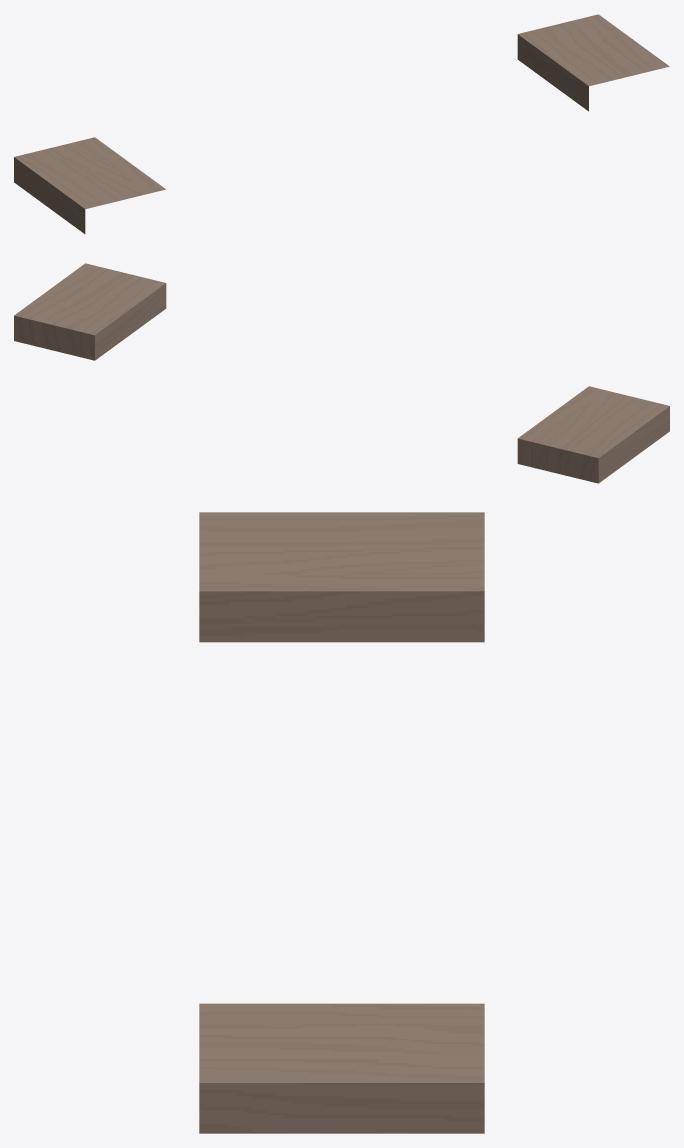
File: kd_stage_135c43_3_10_bounded.glb
3 views of the same model, one above another, from view 1: azimuth 30°, elevation 25°; view 2: azimuth 150°, elevation 25°; view 3: azimuth 270°, elevation 25° (orthographic). The views are drawn at different scales.
Visible parts, largest first — view 1: kd_stage_135c43_3_10_bounded; view 2: kd_stage_135c43_3_10_bounded; view 3: kd_stage_135c43_3_10_bounded.
Part boxes in pixels (x1=…): kd_stage_135c43_3_10_bounded: x1=14, y1=14, x2=669, y2=233; kd_stage_135c43_3_10_bounded: x1=14, y1=263, x2=669, y2=483; kd_stage_135c43_3_10_bounded: x1=199, y1=512, x2=484, y2=1133.
Bounding box in the file's own units: 1.44 × 0.06 × 0.3055.
Materials: 1 (1 with a texture image).
